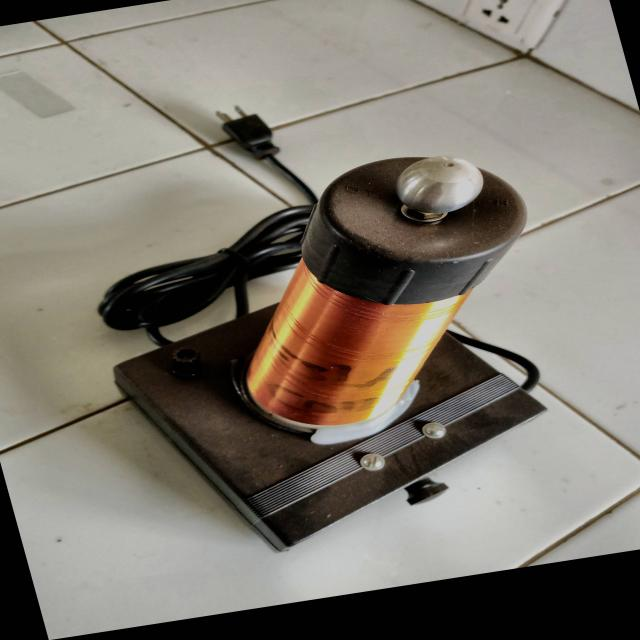Tesla Coil: (40, 132, 623, 570)
